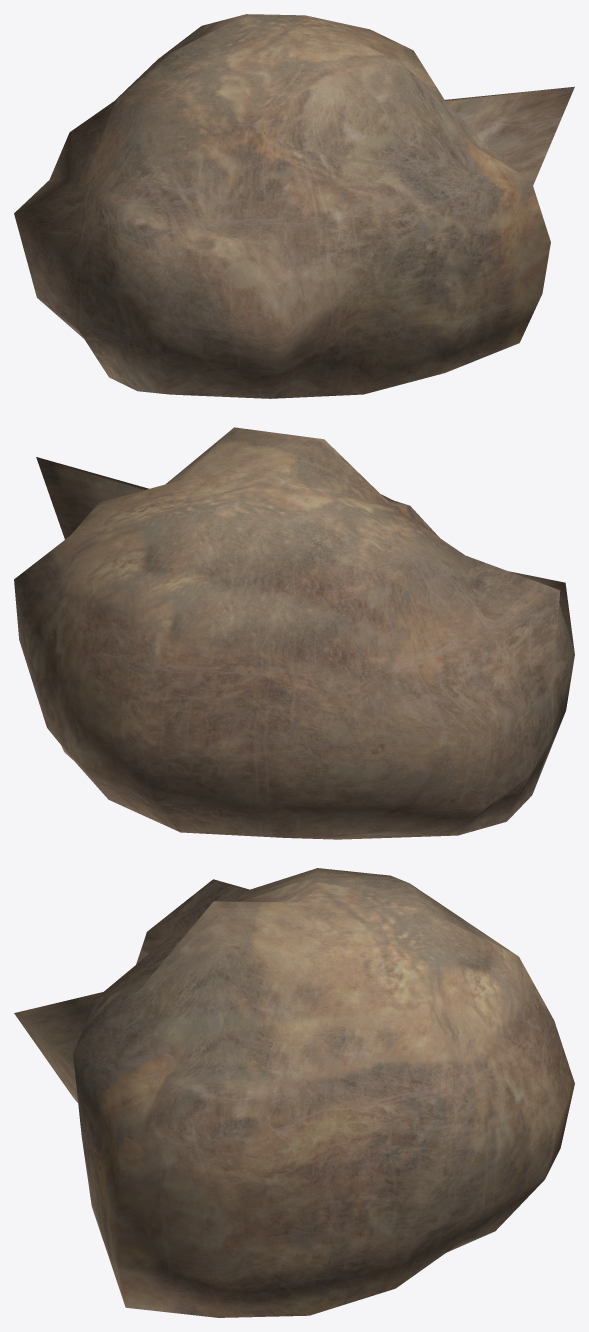
Rendered from lod1_rock_bigmama.obj.
3 views of the same model, one above another, from view 1: azimuth 30°, elevation 25°; view 2: azimuth 150°, elevation 25°; view 3: azimuth 270°, elevation 25° (orthographic). The views are drawn at different scales.
Parts seen in each view (by area): view 1: lod1_rock1 game; view 2: lod1_rock1 game; view 3: lod1_rock1 game.
Boxes of the visible parts, x1,y1,x2,y2 form: lod1_rock1 game: (14,14,574,398); lod1_rock1 game: (14,427,574,839); lod1_rock1 game: (14,868,574,1317).
Size of the model in its own units: 42.02 by 25.37 by 36.64.
1 material, 1 textured.
